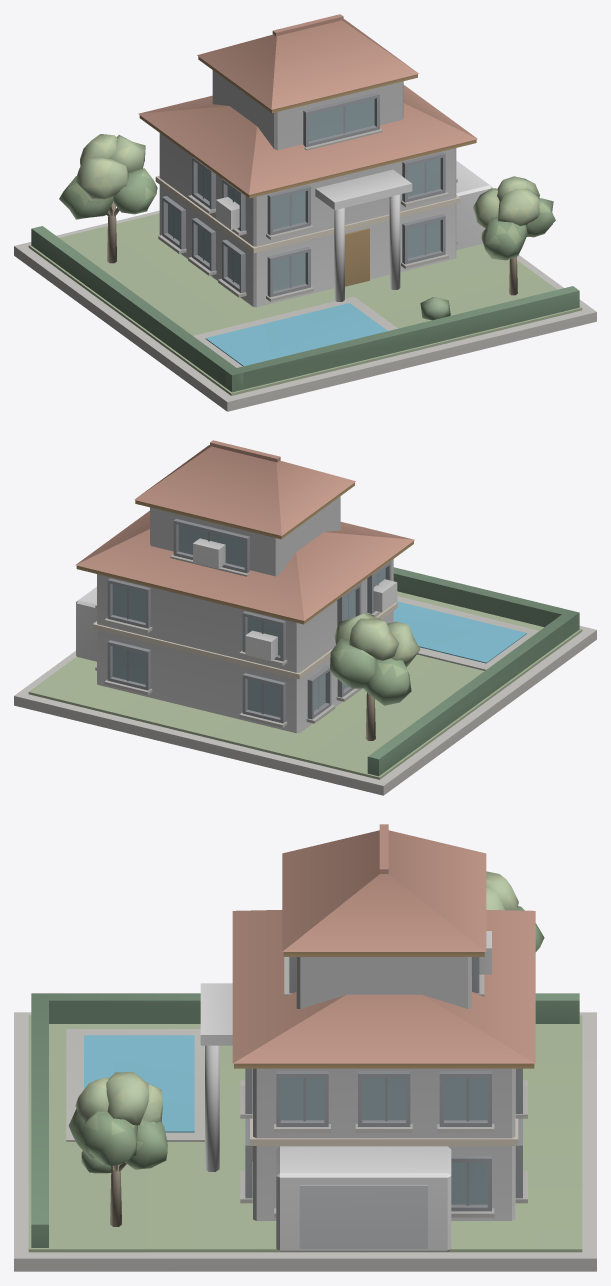
Rendered from villa.glb.
The picture shows the model from 3 angles, top to bottom: view 1: azimuth 30°, elevation 25°; view 2: azimuth 150°, elevation 25°; view 3: azimuth 270°, elevation 25°; orthographic projection. The views are drawn at different scales.
Visible parts, largest first — view 1: villa; view 2: villa; view 3: villa.
Boxes of the visible parts, left/top/right/bottom form: villa: left=14, top=14, right=596, bottom=411; villa: left=14, top=440, right=596, bottom=795; villa: left=14, top=824, right=596, bottom=1271.
Size of the model in its own units: 2 by 1.22 by 2.
